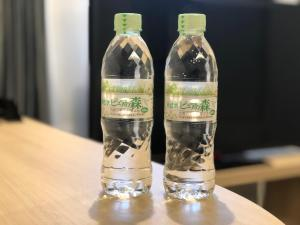bottle: (160, 10, 222, 206), (96, 8, 158, 201)
